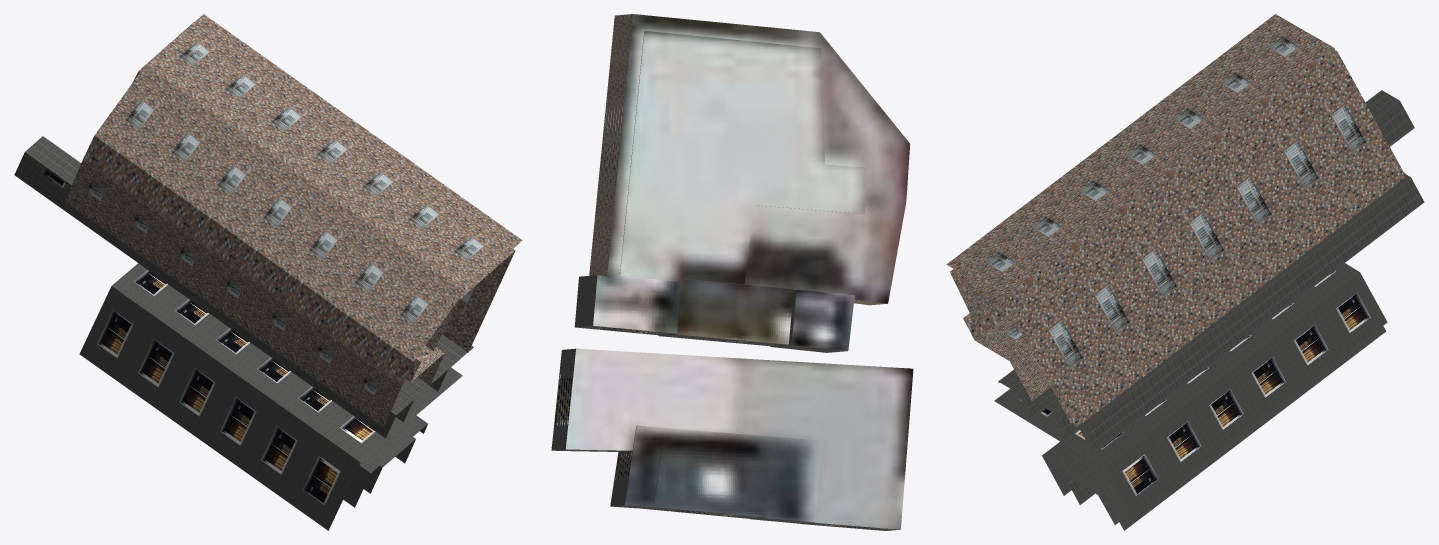
The picture shows the model from 3 angles, left to right: view 1: azimuth 30°, elevation 25°; view 2: azimuth 150°, elevation 25°; view 3: azimuth 270°, elevation 25°; orthographic projection. The views are drawn at different scales.
Bounding box in the file's own units: 22.49 × 27.22 × 27.05.
Materials: 18 (18 with a texture image).
